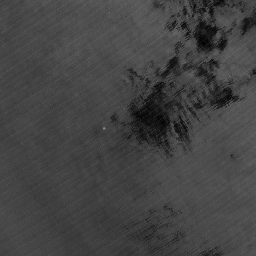Target: (100, 124, 108, 131)
